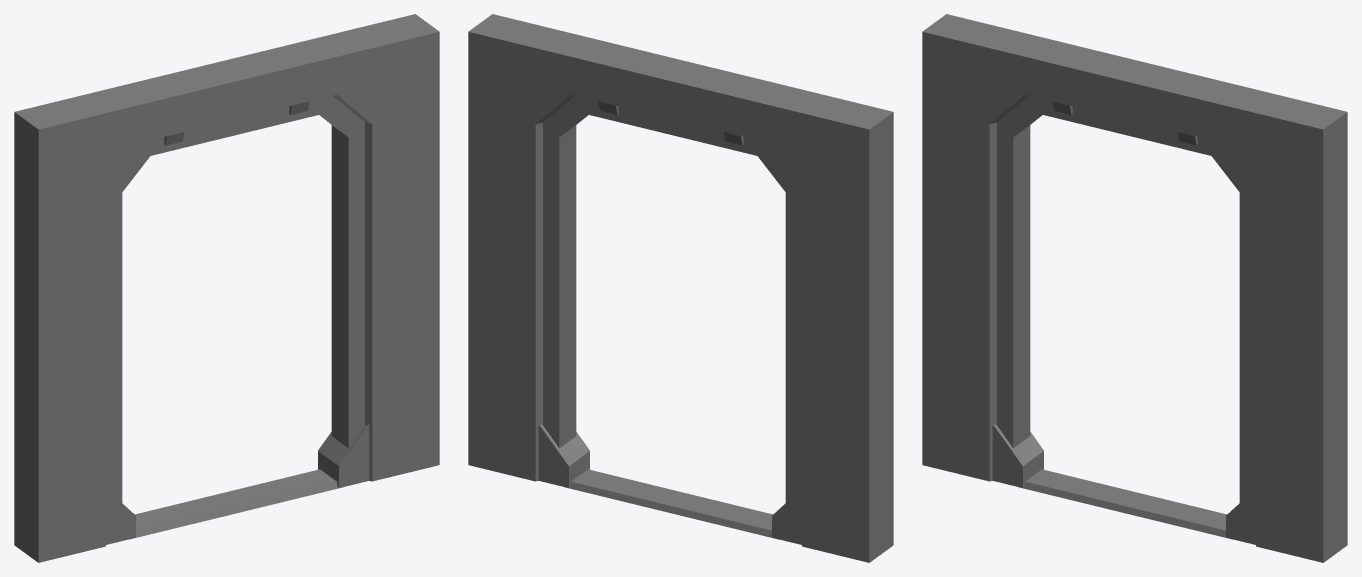
The model's file is q-scifi-mod-door-frame-squaretall.glb.
3 renders of one model, left to right at view 1: azimuth 30°, elevation 25°; view 2: azimuth 150°, elevation 25°; view 3: azimuth 330°, elevation 25°, orthographic.
Parts seen in each view (by area): view 1: Door_Frame_SquareTall; view 2: Door_Frame_SquareTall; view 3: Door_Frame_SquareTall.
Part boxes in pixels (x1=…): Door_Frame_SquareTall: x1=14, y1=14, x2=439, y2=562; Door_Frame_SquareTall: x1=468, y1=14, x2=893, y2=562; Door_Frame_SquareTall: x1=922, y1=14, x2=1347, y2=562.
Bounding box in the file's own units: 4.84 × 5.01 × 0.5068.
Materials: 1 (1 with a texture image).
